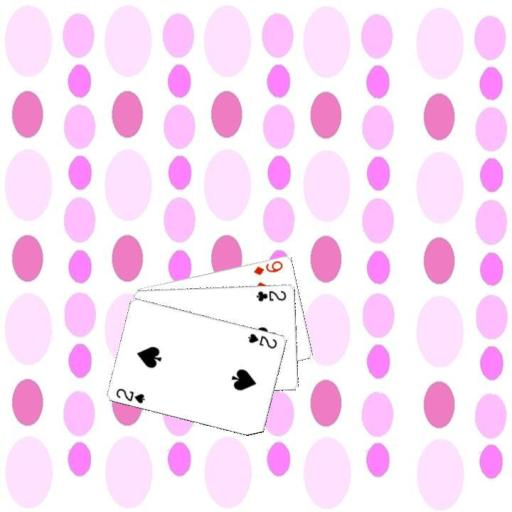2C: (253, 288, 288, 303)
2S: (245, 330, 279, 350), (113, 385, 147, 405)
9D: (251, 258, 285, 277)
